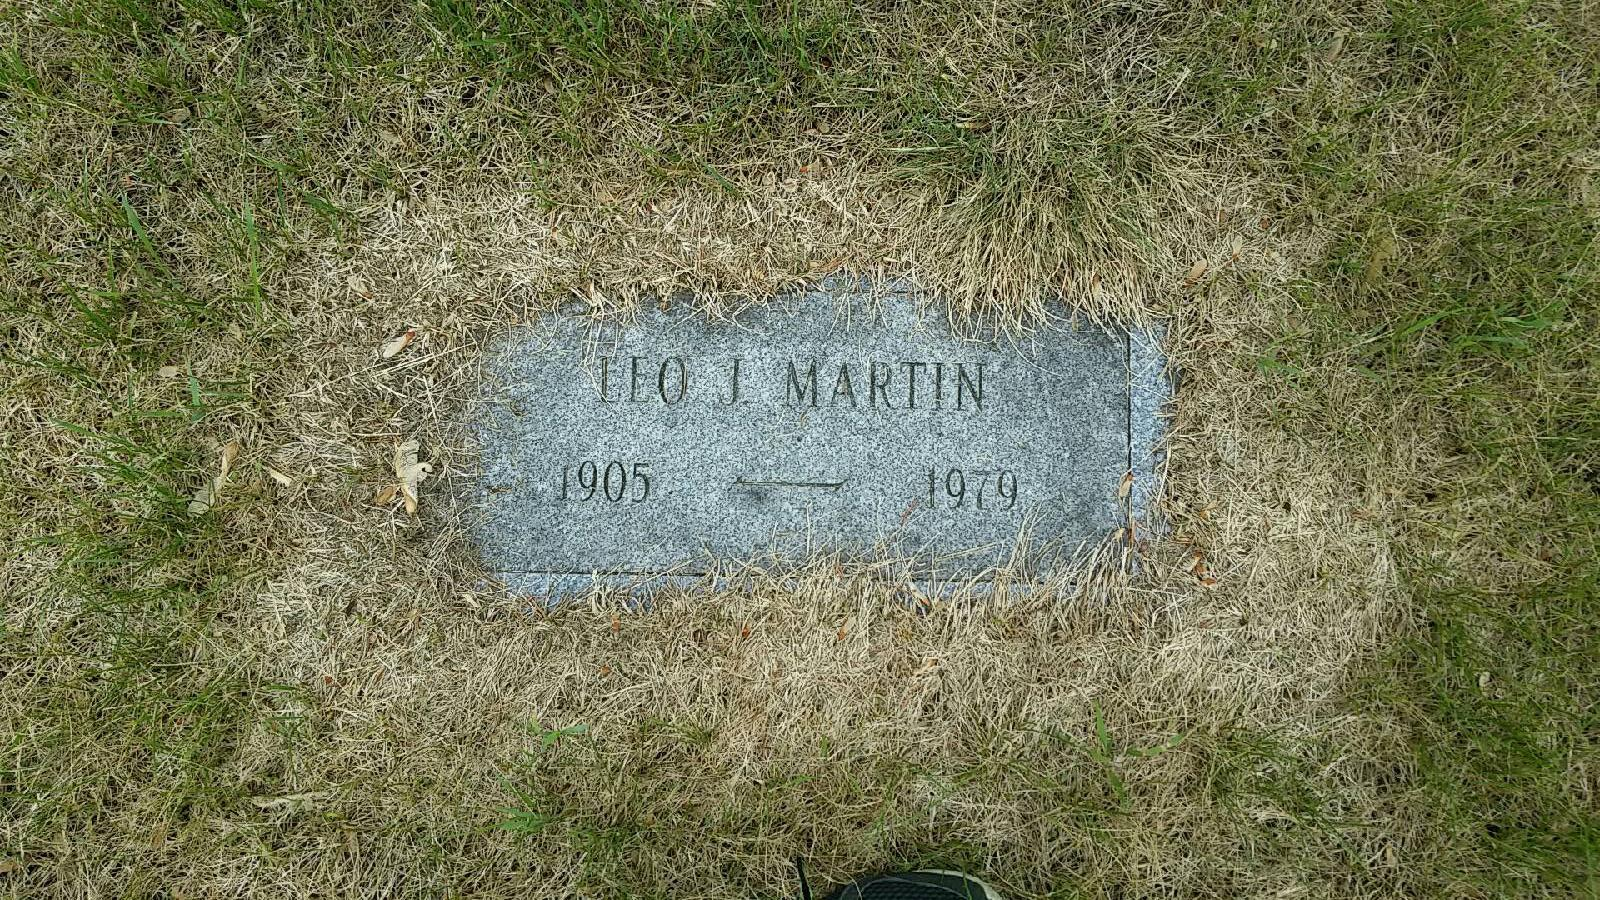flat: (460, 276, 1153, 601)
